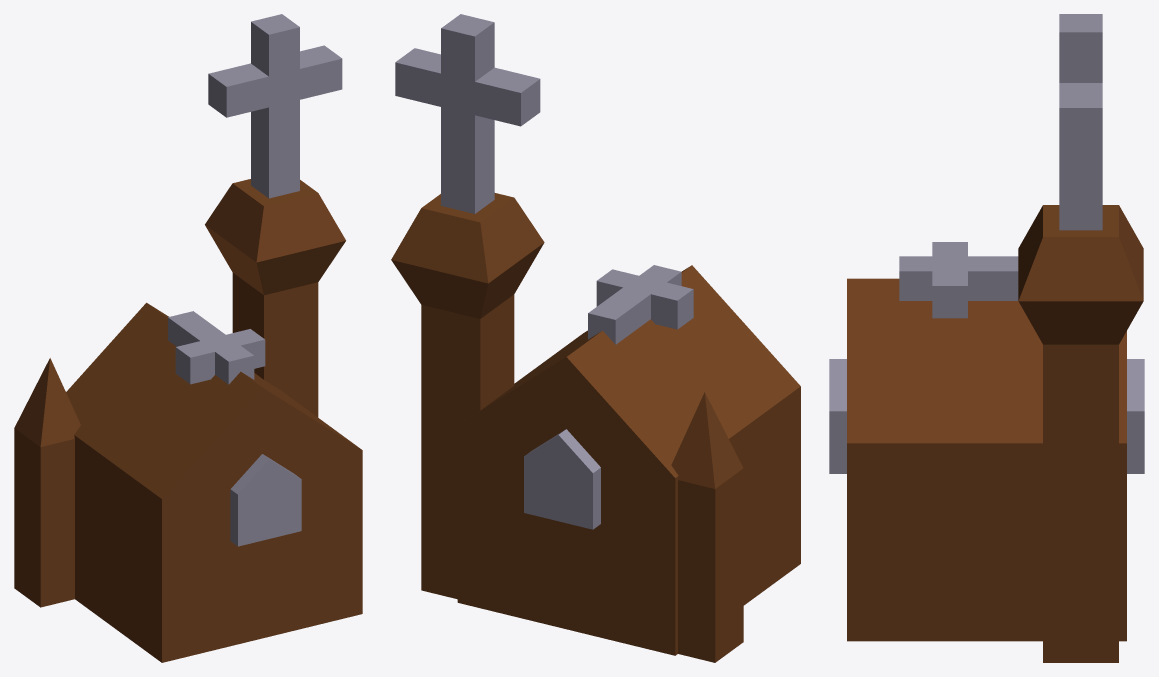
Rendered from Kirkko_mod.fbx.
3 renders of one model, left to right at view 1: azimuth 30°, elevation 25°; view 2: azimuth 150°, elevation 25°; view 3: azimuth 270°, elevation 25°, orthographic. The views are drawn at different scales.
Visible parts, largest first — view 1: Kirkko; view 2: Kirkko; view 3: Kirkko.
Part boxes in pixels (left/top/right/bottom): Kirkko: left=14, top=14, right=362, bottom=662; Kirkko: left=391, top=14, right=800, bottom=662; Kirkko: left=829, top=14, right=1144, bottom=662.
Bounding box in the file's own units: 568 × 926 × 425.
